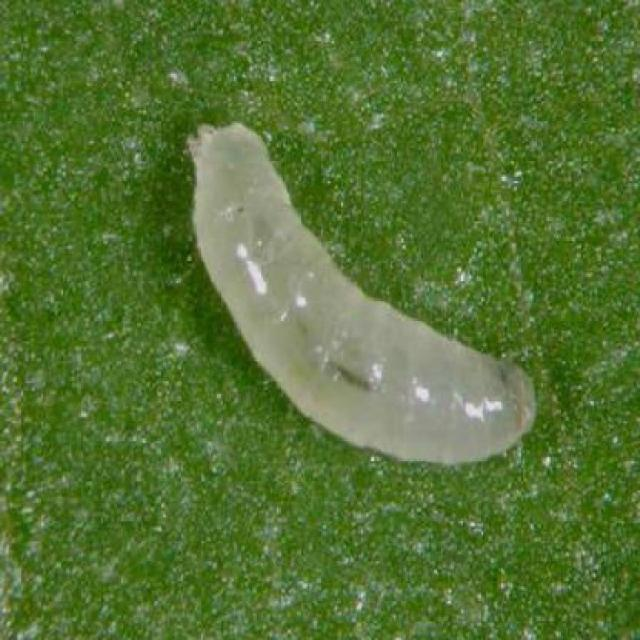whorl-maggot: (178, 111, 542, 472)
